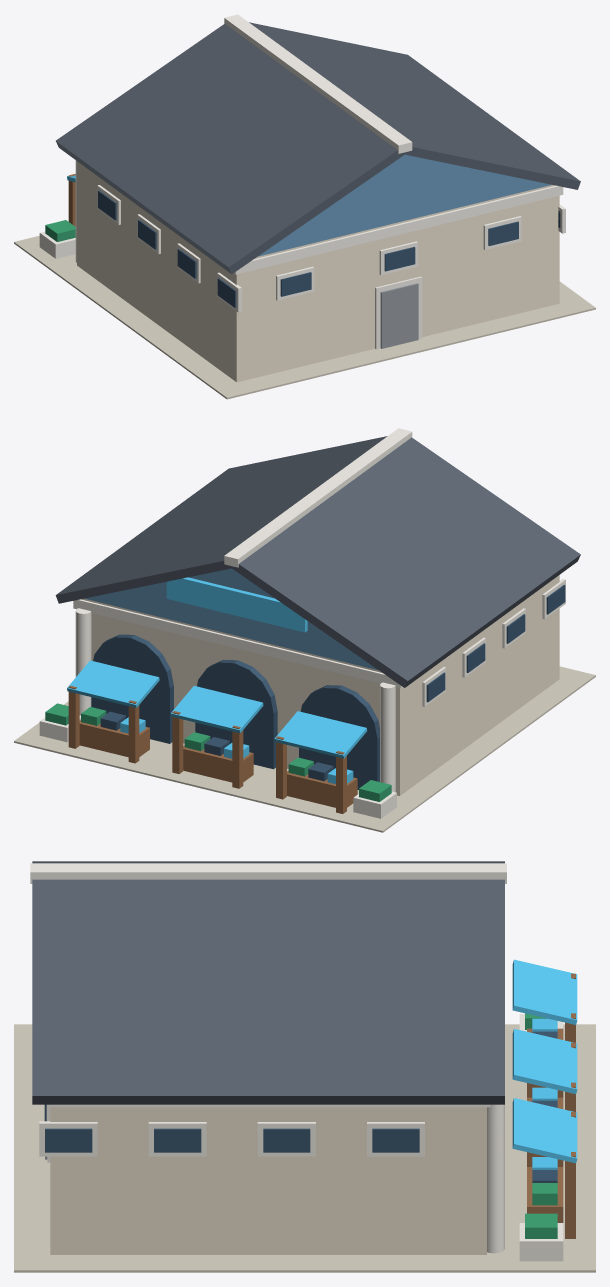
The picture shows the model from 3 angles, top to bottom: view 1: azimuth 30°, elevation 25°; view 2: azimuth 150°, elevation 25°; view 3: azimuth 270°, elevation 25°; orthographic projection. The views are drawn at different scales.
Visible parts, largest first — view 1: roof (×2), hall, ground, gable, string_course, ridge, garage_door, window_glass (×3), garage_door_frame, planter, planter_hedge; view 2: roof (×2), hall, market_bay (×3), ground, stall_awning (×3), gable, stall (×3), stall_post (×6), string_course, sign, ridge, column (×2) (+2 smaller); view 3: roof (×2), hall, ground, stall_awning (×3), ridge, window_glass (×4), window_frame (×4), column, string_course, planter, stall, stall_post (+2 smaller).
Boxes of the visible parts, left/top/right/bottom form: roof (×2): left=56, top=22, right=580, bottom=273; hall: left=77, top=161, right=559, bottom=382; ground: left=14, top=235, right=595, bottom=399; gable: left=258, top=154, right=551, bottom=256; string_course: left=234, top=185, right=563, bottom=274; ridge: left=224, top=14, right=412, bottom=153; garage_door: left=380, top=283, right=418, bottom=348; window_glass (×3): left=280, top=221, right=518, bottom=296; garage_door_frame: left=375, top=276, right=422, bottom=349; planter: left=39, top=231, right=75, bottom=258; planter_hedge: left=45, top=220, right=75, bottom=241; roof (×2): left=55, top=436, right=580, bottom=687; hall: left=81, top=575, right=559, bottom=795; market_bay (×3): left=91, top=634, right=379, bottom=789; ground: left=14, top=666, right=595, bottom=832; stall_awning (×3): left=67, top=660, right=367, bottom=758; gable: left=85, top=568, right=378, bottom=670; stall (×3): left=79, top=720, right=357, bottom=807; stall_post (×6): left=68, top=685, right=346, bottom=813; string_course: left=73, top=599, right=402, bottom=688; sign: left=166, top=577, right=307, bottom=632; ridge: left=224, top=428, right=412, bottom=567; column (×2): left=75, top=608, right=395, bottom=792; roof (×2): left=32, top=861, right=504, bottom=1104; hall: left=50, top=1107, right=486, bottom=1254; ground: left=14, top=1024, right=595, bottom=1272; stall_awning (×3): left=512, top=959, right=577, bottom=1163; ridge: left=30, top=863, right=506, bottom=883; window_glass (×4): left=45, top=1128, right=419, bottom=1152; window_frame (×4): left=39, top=1121, right=424, bottom=1156; column: left=487, top=1104, right=504, bottom=1253; string_course: left=46, top=1104, right=490, bottom=1107; planter: left=519, top=1223, right=563, bottom=1261; stall: left=527, top=1167, right=563, bottom=1222; stall_post: left=565, top=1152, right=575, bottom=1238.
Size of the model in its own units: 16 by 8.55 by 16.
